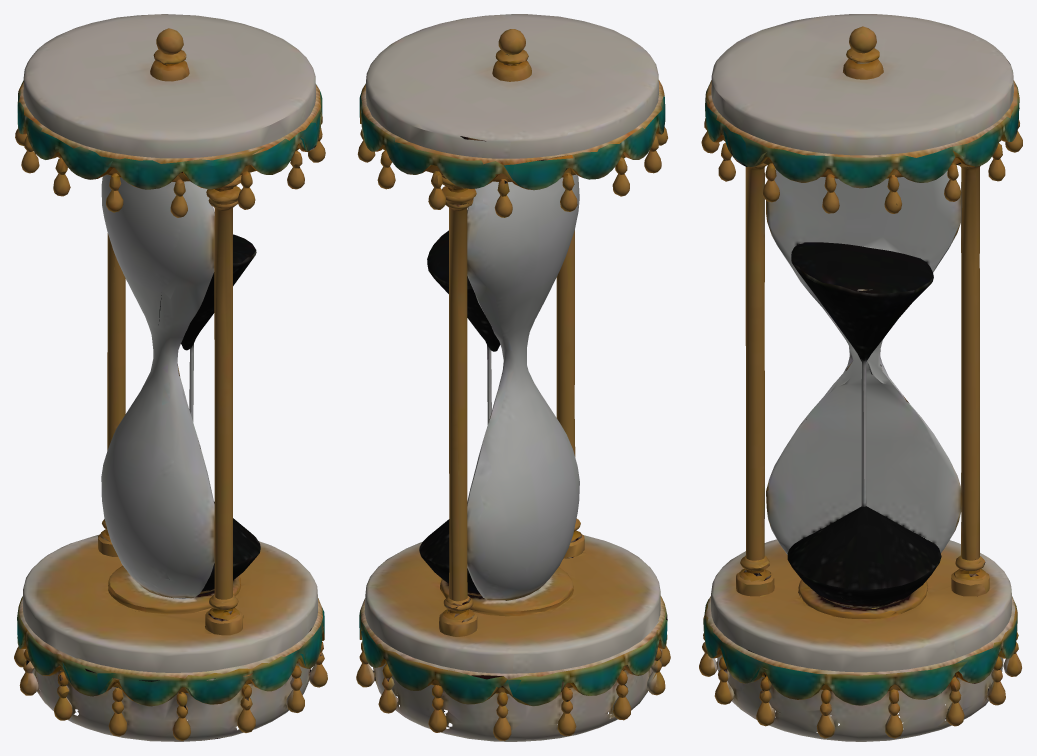
File: TH-09_hourglass_game.glb
3 renders of one model, left to right at view 1: azimuth 30°, elevation 25°; view 2: azimuth 150°, elevation 25°; view 3: azimuth 270°, elevation 25°, orthographic.
Visible parts, largest first — view 1: TH-09_hourglass; view 2: TH-09_hourglass; view 3: TH-09_hourglass.
Part boxes in pixels (x1,y1,x2,y2): TH-09_hourglass: (14, 14, 327, 741); TH-09_hourglass: (356, 14, 670, 741); TH-09_hourglass: (699, 14, 1022, 741).
Size of the model in its own units: 0.1691 by 0.4005 by 0.1773.
1 material, 1 textured.
